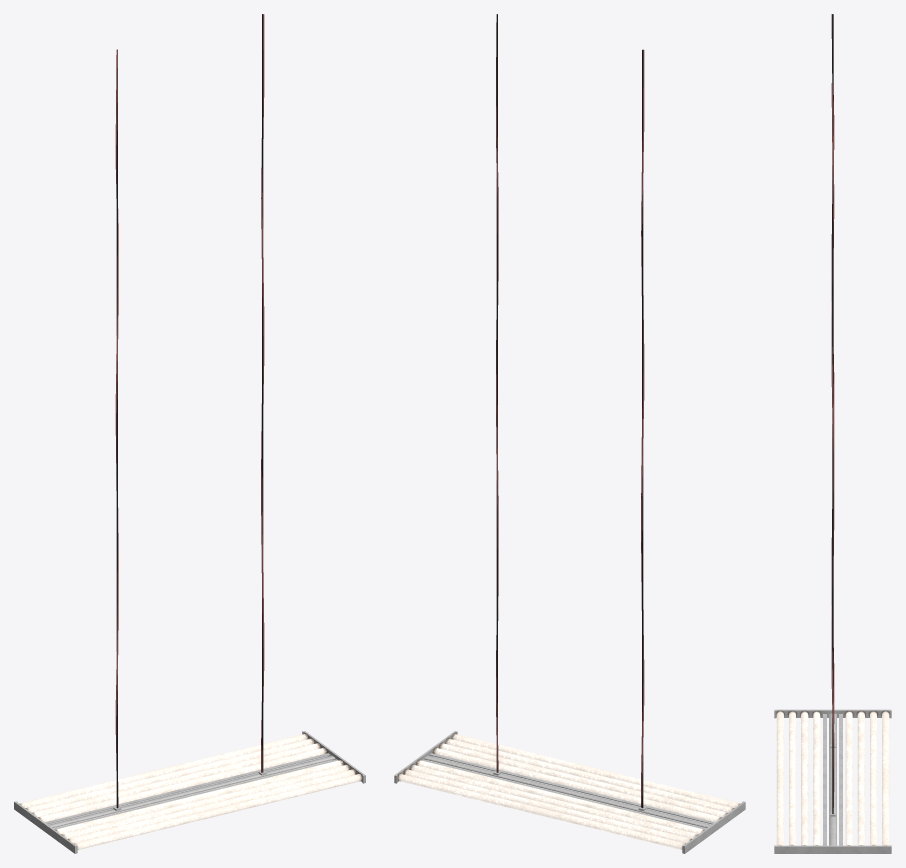
File: Light.glb
The picture shows the model from 3 angles, left to right: view 1: azimuth 30°, elevation 25°; view 2: azimuth 150°, elevation 25°; view 3: azimuth 270°, elevation 25°; orthographic projection. The views are drawn at different scales.
Parts seen in each view (by area): view 1: Cube.176, Cube.177; view 2: Cube.176, Cube.177; view 3: Cube.176, Cube.177.
Part boxes in pixels (x1,y1,x2,y2): Cube.176: (14, 731, 365, 853); Cube.177: (113, 14, 266, 810); Cube.176: (394, 731, 745, 853); Cube.177: (493, 14, 646, 810); Cube.176: (774, 709, 891, 853); Cube.177: (830, 14, 835, 816).
Size of the model in its own units: 2 by 5.02 by 0.725.
1 material, 1 textured.
